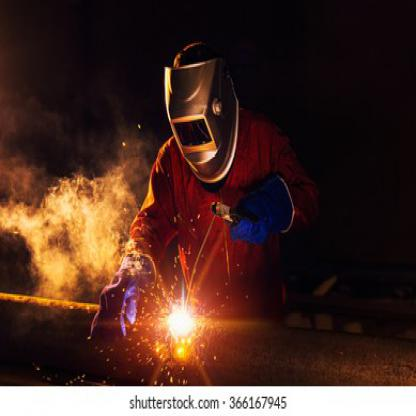with_gloves: (90, 250, 157, 340), (227, 174, 297, 246)
